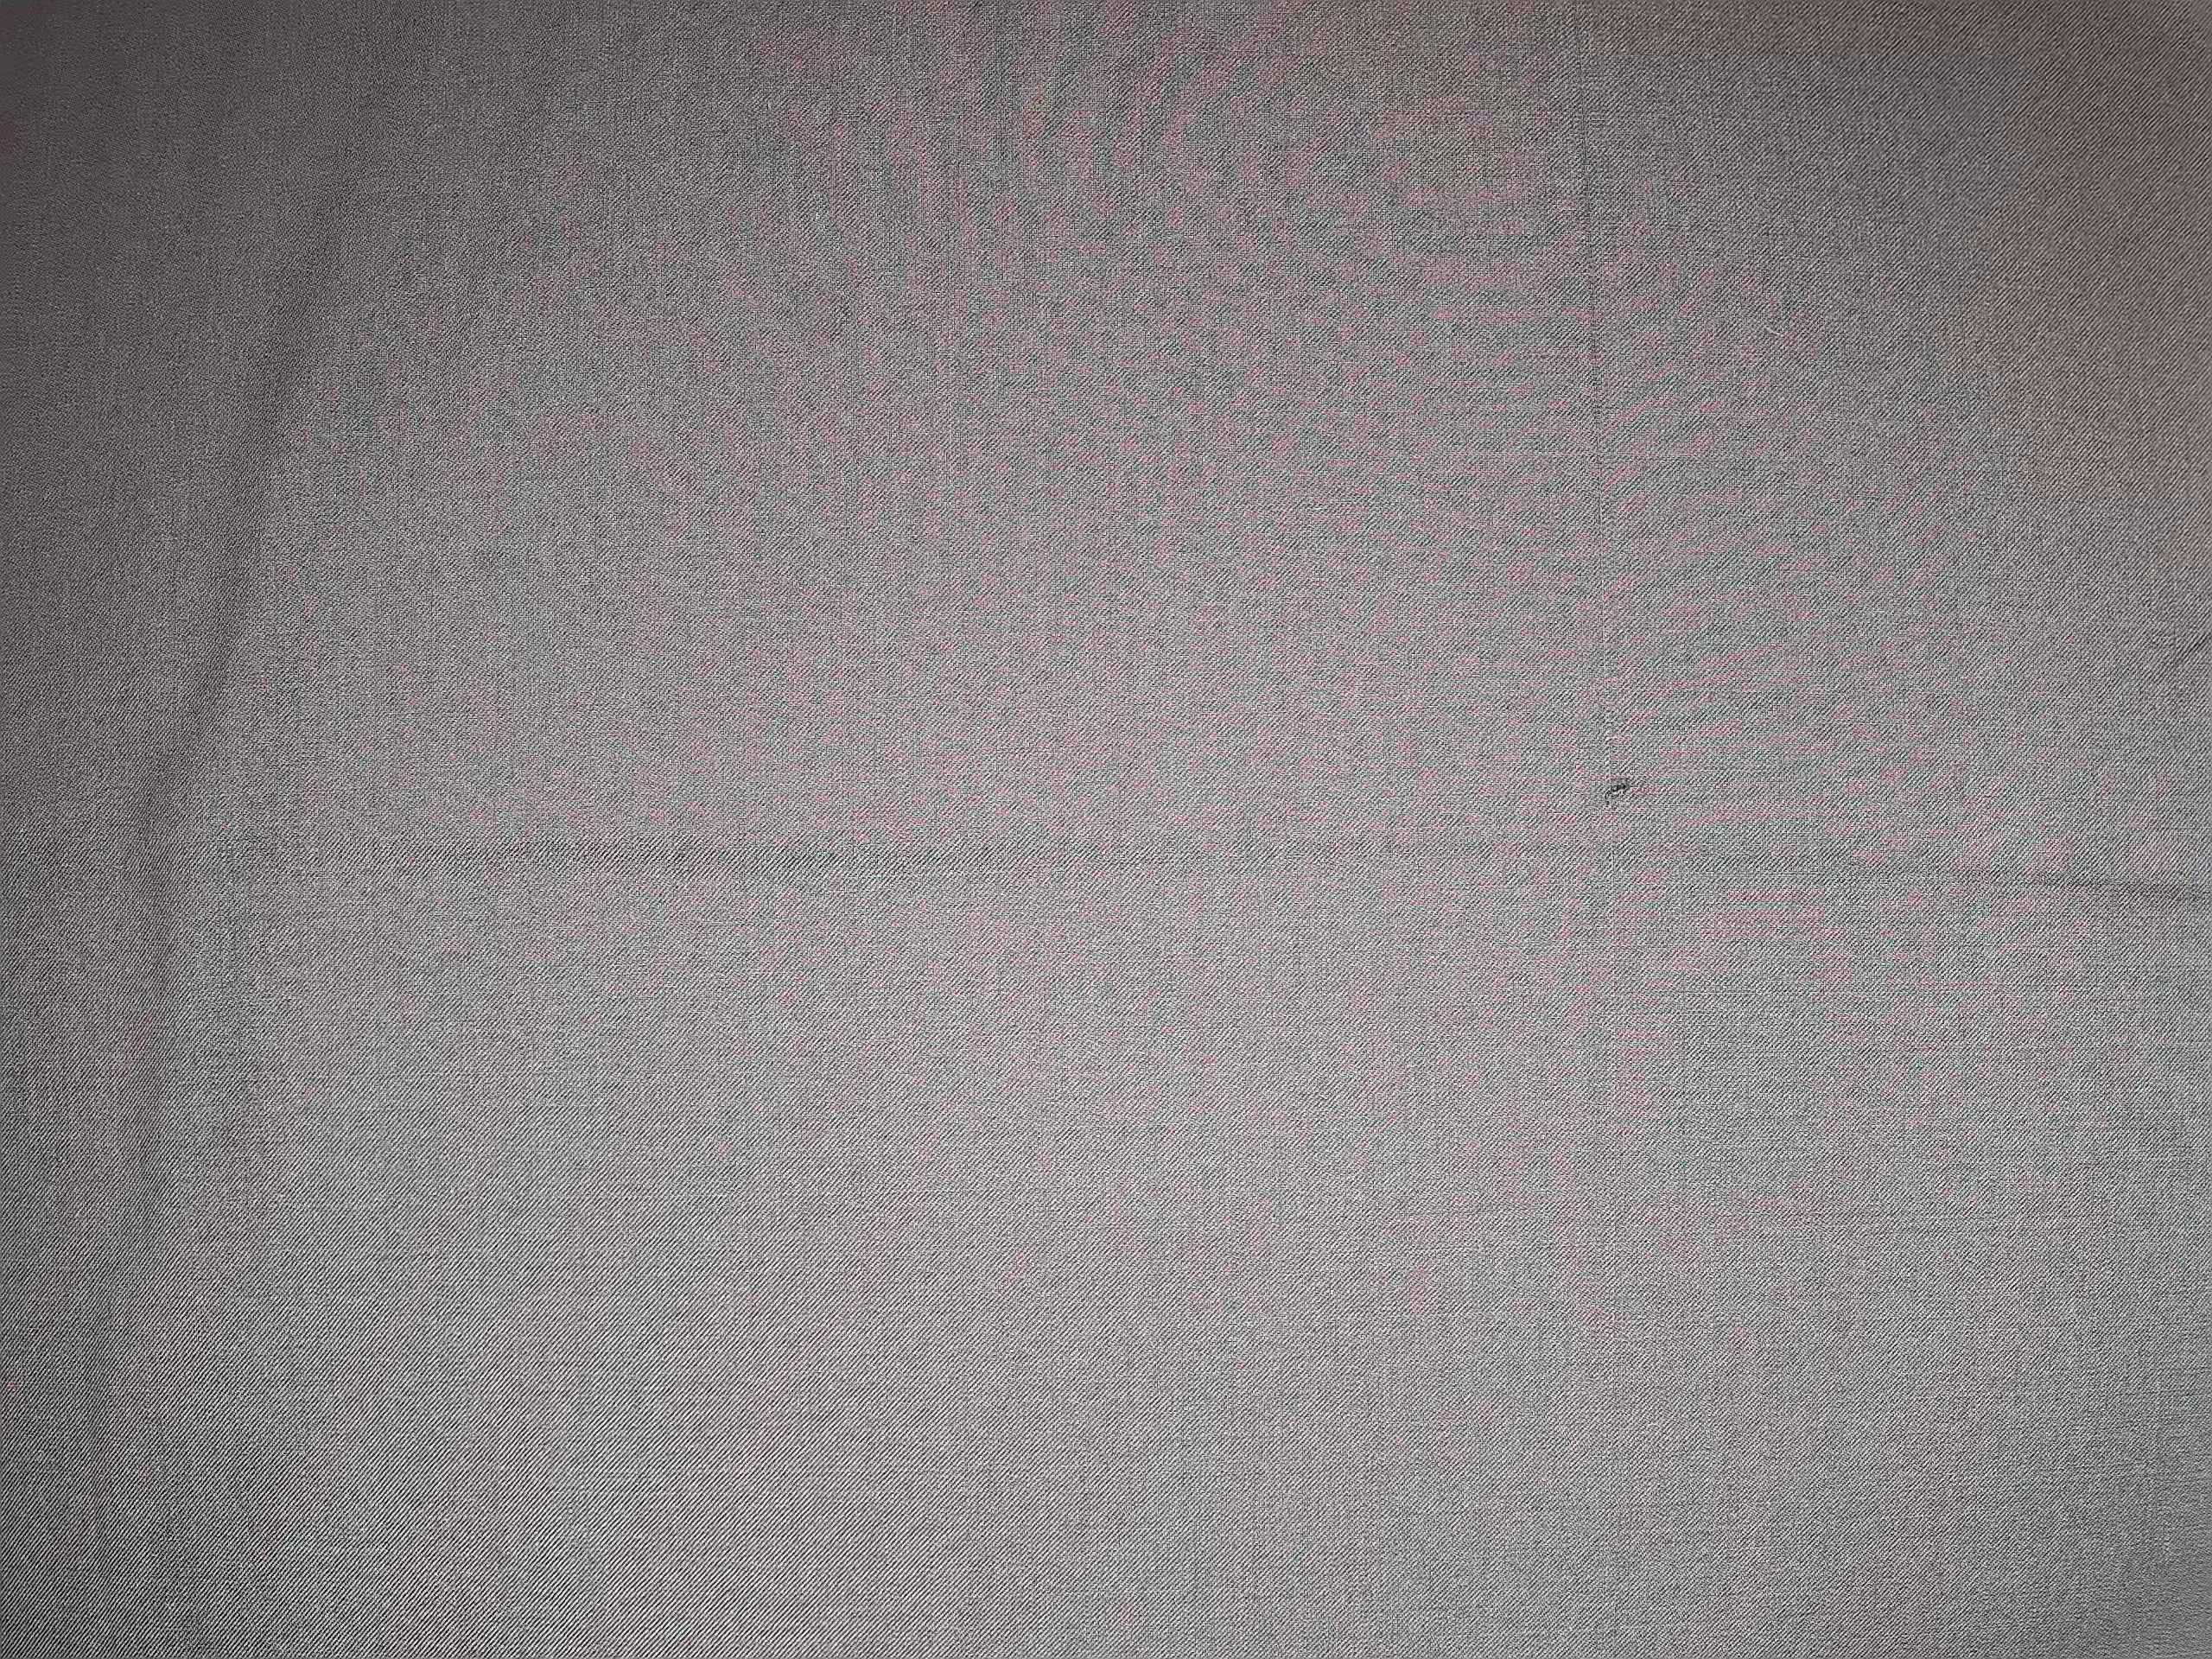hanging-warp: (1547, 10, 1656, 1127)
